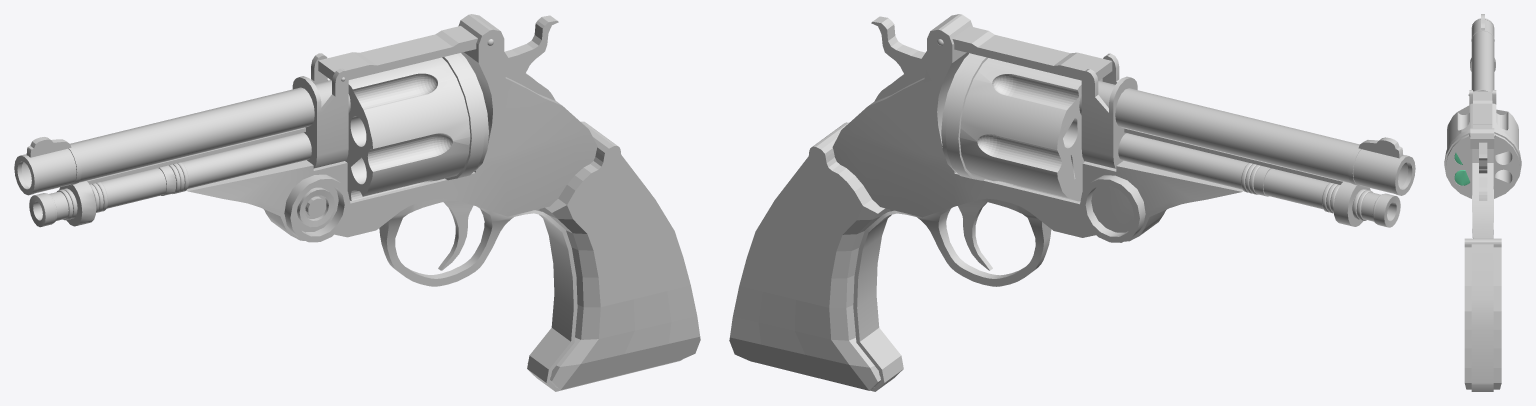
Rendered from rev.fbx.
3 renders of one model, left to right at view 1: azimuth 30°, elevation 25°; view 2: azimuth 150°, elevation 25°; view 3: azimuth 270°, elevation 25°, orthographic. The views are drawn at different scales.
Parts seen in each view (by area): view 1: wp, wp_br; view 2: wp, wp_br; view 3: wp, wp_br, bullet.002.
Part boxes in pixels (x1,y1,x2,y2): wp: (14,14,700,391); wp_br: (327,53,488,200); wp: (729,14,1415,391); wp_br: (941,53,1102,201); wp: (1464,14,1501,391); wp_br: (1444,103,1521,198); bullet.002: (1454,170,1469,185).
Bounding box in the file's own units: 371 × 202 × 67.12.
